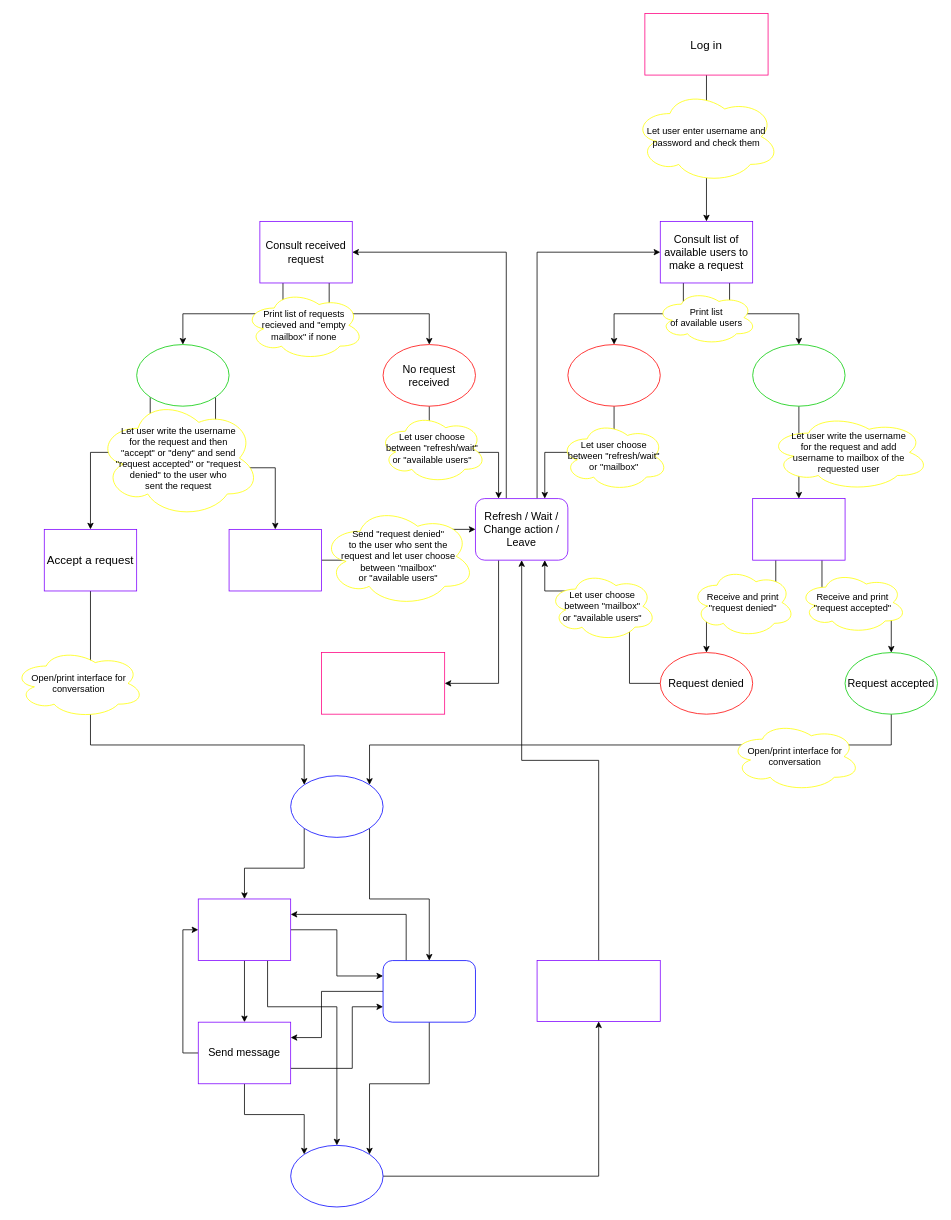
The diagram is 951 pixels wide and 1220 high, and some of its shapes have lost their labels. The shapes that lost their labels are listed below. From the top down, each one's centre as x and y in pixels, then its label:
At [182,375]: "Request(s) received".
At [613,375]: "No user to reques t found".
At [798,375]: "User to reques t found".
At [798,529]: "Request a user".
At [274,560]: "Deny a request".
At [383,683]: "Log out".
At [336,806]: "Start the conversation".
At [244,929]: "Write message".
At [428,991]: "Receive message".
At [598,990]: "Log out of the conversation".
At [336,1176]: "End the conversation".
